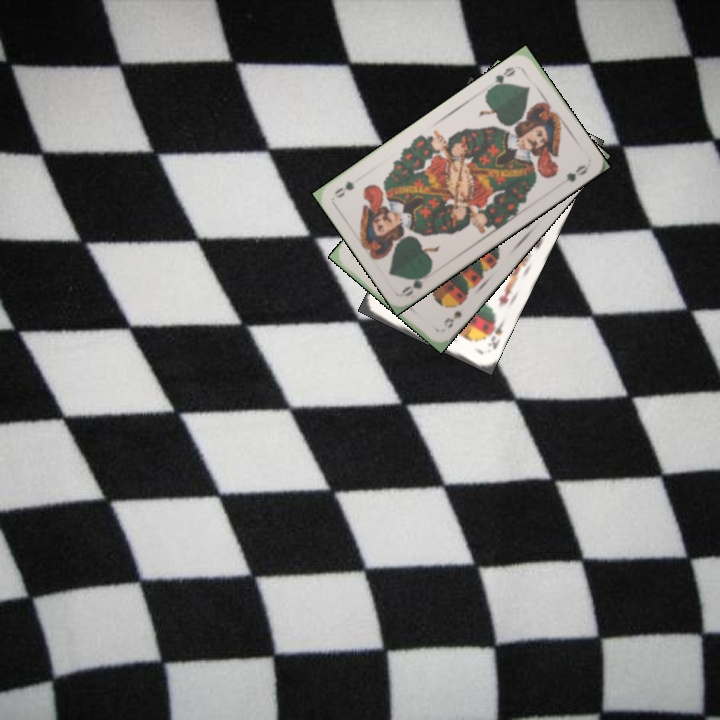GO: (398, 267, 433, 299), (487, 62, 518, 91)
S9: (440, 298, 466, 331)
SK: (484, 315, 507, 352)
